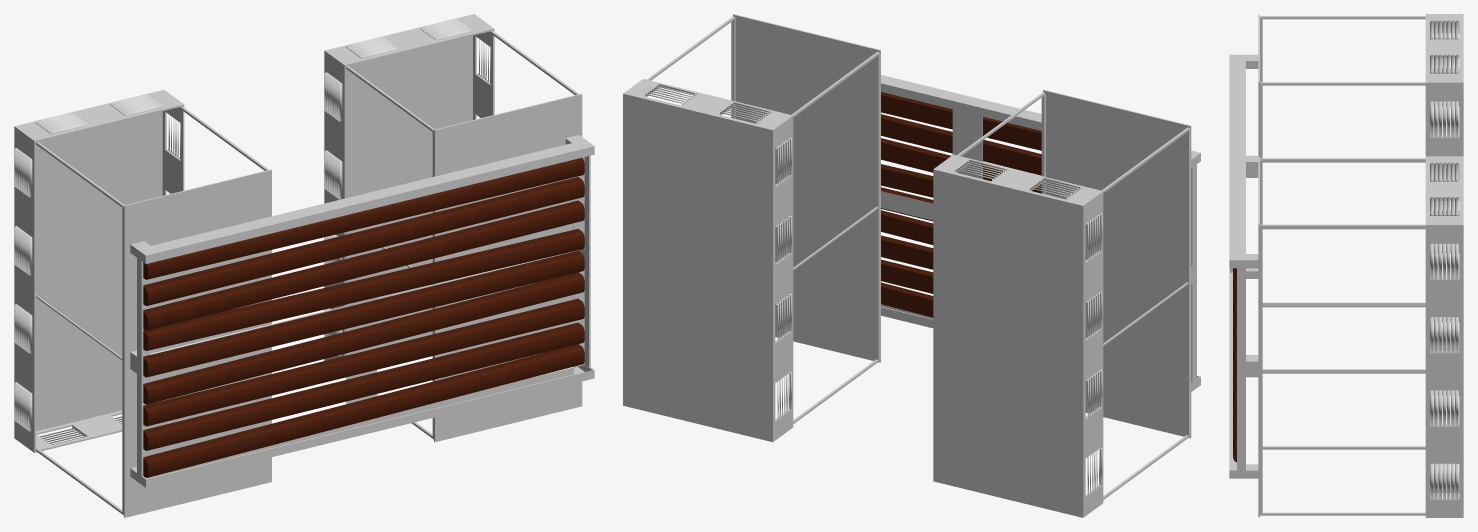
The model's file is Generator.fbx.
The picture shows the model from 3 angles, left to right: view 1: azimuth 30°, elevation 25°; view 2: azimuth 150°, elevation 25°; view 3: azimuth 270°, elevation 25°; orthographic projection. The views are drawn at different scales.
Visible parts, largest first — view 1: doska, block.001, block, Plane; view 2: block.001, block, doska, Plane; view 3: block, block.001, Plane, doska.
Boxes of the visible parts, bbox=[...] form: doska: bbox=[143, 158, 584, 477]; block.001: bbox=[14, 90, 271, 517]; block: bbox=[324, 14, 582, 442]; Plane: bbox=[130, 135, 594, 487]; block.001: bbox=[933, 89, 1191, 517]; block: bbox=[623, 14, 880, 442]; doska: bbox=[881, 92, 1041, 317]; Plane: bbox=[881, 75, 1200, 391]; block: bbox=[1258, 156, 1463, 517]; block.001: bbox=[1258, 14, 1463, 373]; Plane: bbox=[1229, 54, 1258, 478]; doska: bbox=[1233, 268, 1236, 462].
Size of the model in its own units: 620 by 404 by 288.
